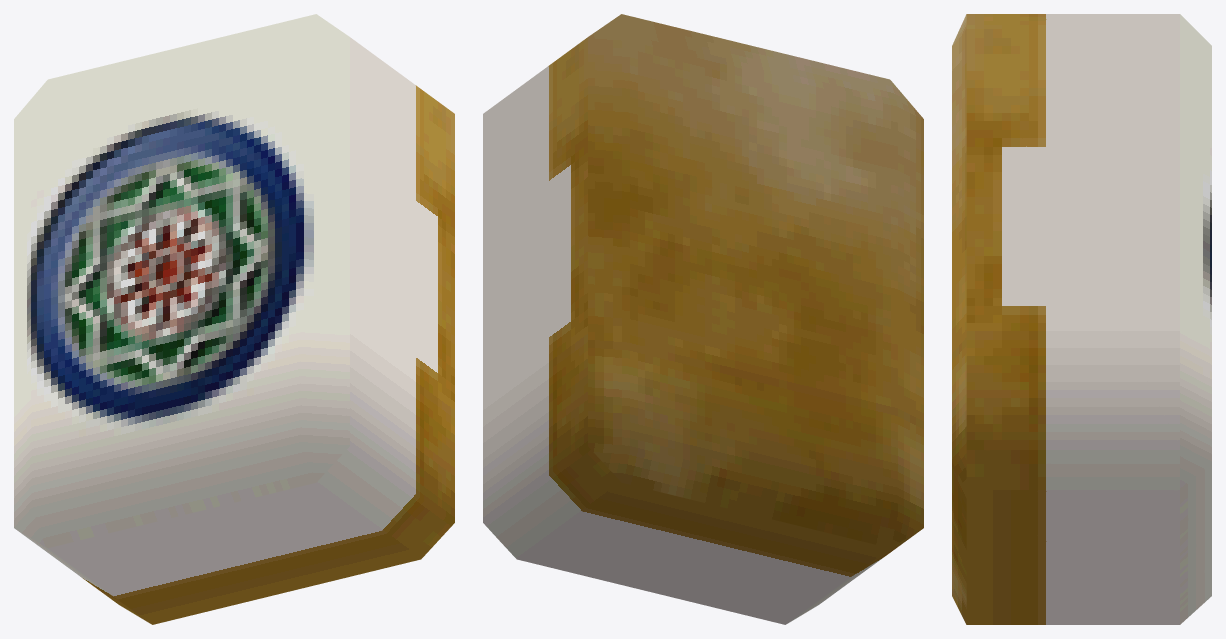
The model's file is ps2_save-icons_urawazaikasamahjong.glb.
The picture shows the model from 3 angles, left to right: view 1: azimuth 30°, elevation 25°; view 2: azimuth 150°, elevation 25°; view 3: azimuth 270°, elevation 25°; orthographic projection.
Parts seen in each view (by area): view 1: view.ico; view 2: view.ico; view 3: view.ico.
Boxes of the visible parts, bbox=[...] form: view.ico: bbox=[14, 14, 454, 624]; view.ico: bbox=[483, 14, 923, 624]; view.ico: bbox=[952, 14, 1211, 624].
Size of the model in its own units: 2.25 by 3 by 1.48.
1 material, 1 textured.
